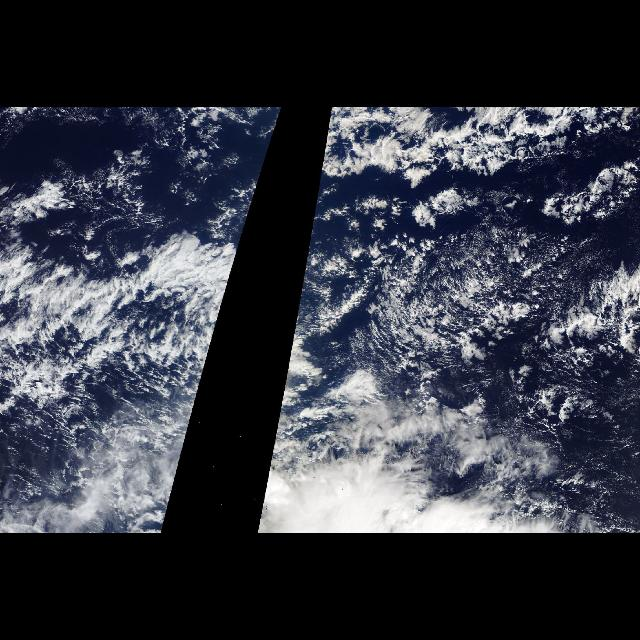Fish: (318, 107, 634, 185)
Gravel: (358, 232, 638, 391)
